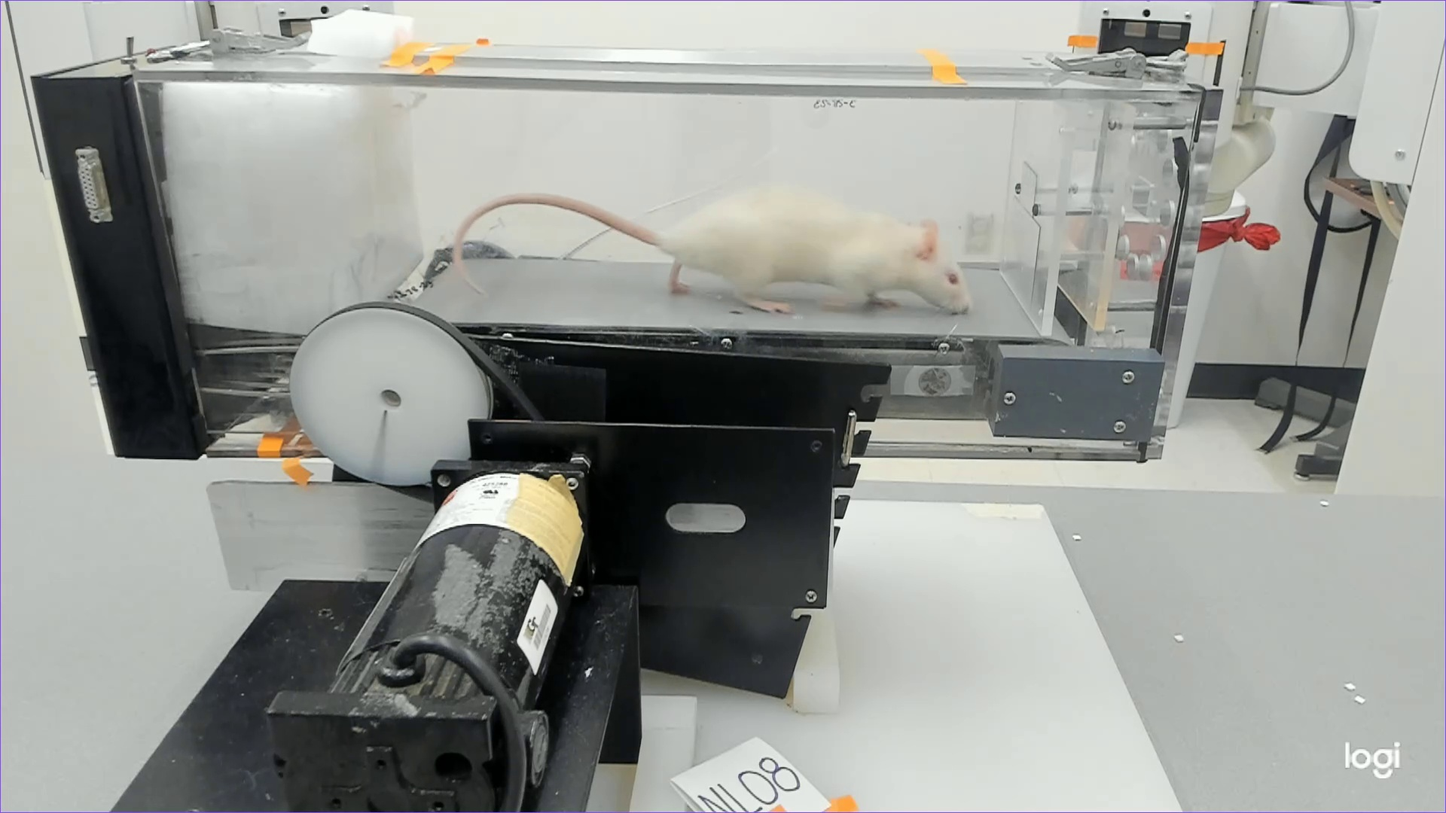right_paw: (739, 296, 792, 312)
right_shank: (735, 258, 773, 296)
right_thigh: (700, 222, 770, 266)
